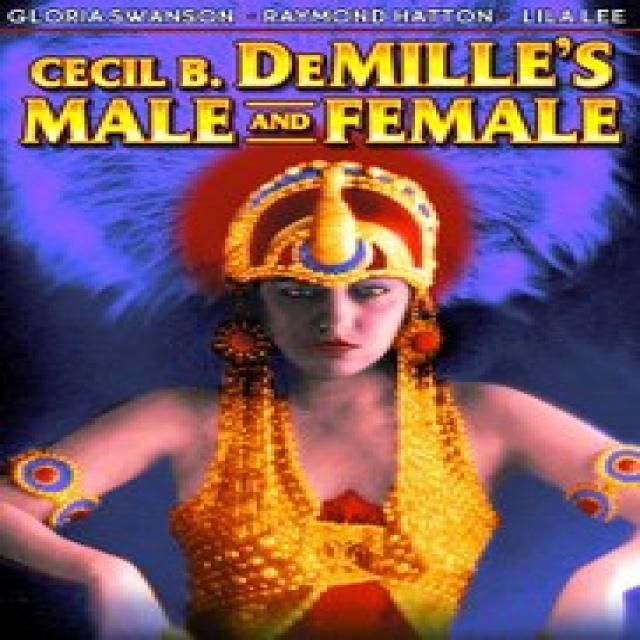movie-judul: (21, 32, 630, 159)
picture: (3, 163, 640, 623)
